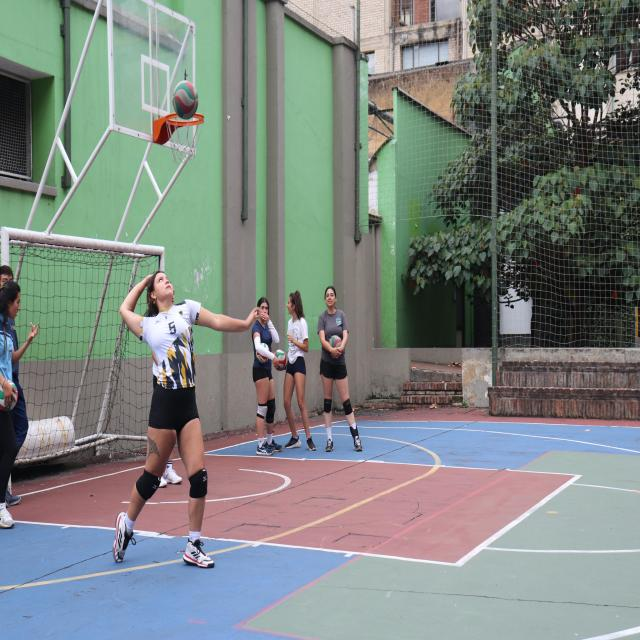volleyball: (172, 80, 199, 120), (273, 349, 286, 369), (328, 335, 342, 348)
